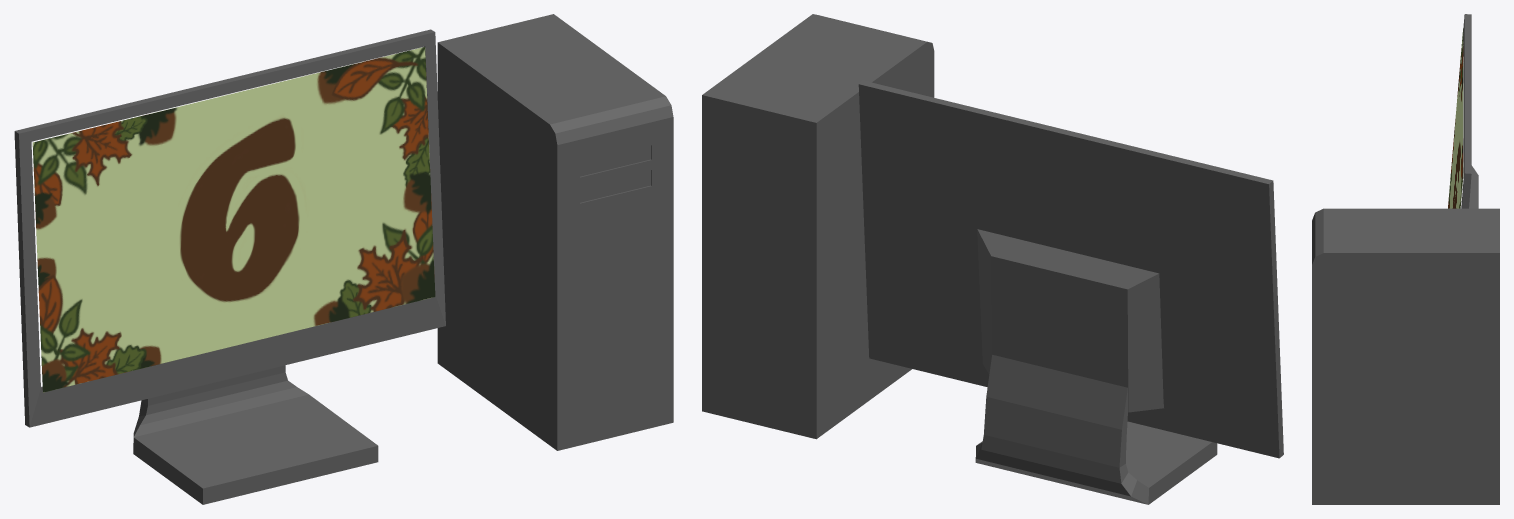
File: computer6.gltf
3 renders of one model, left to right at view 1: azimuth 30°, elevation 25°; view 2: azimuth 150°, elevation 25°; view 3: azimuth 270°, elevation 25°, orthographic. The views are drawn at different scales.
Parts seen in each view (by area): view 1: computer.001, Fläche.001; view 2: computer.001; view 3: computer.001, Fläche.001.
Part boxes in pixels (x1,y1,x2,y2): computer.001: [14, 14, 673, 504]; Fläche.001: [32, 47, 435, 392]; computer.001: [702, 14, 1283, 504]; computer.001: [1312, 14, 1499, 504]; Fläche.001: [1448, 28, 1463, 208].
Bounding box in the file's own units: 5.37 × 3.26 × 2.
Materials: 3 (1 with a texture image).
